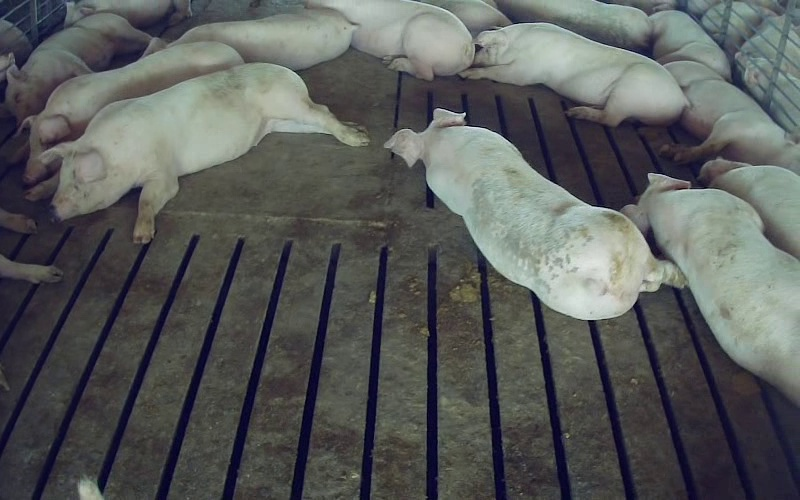pig: (385, 109, 685, 319), (622, 174, 799, 405), (22, 43, 243, 184), (460, 23, 686, 126), (5, 13, 150, 124), (306, 0, 474, 80), (661, 61, 792, 163), (144, 9, 356, 69), (699, 159, 799, 259), (495, 0, 651, 50), (649, 10, 730, 81)
